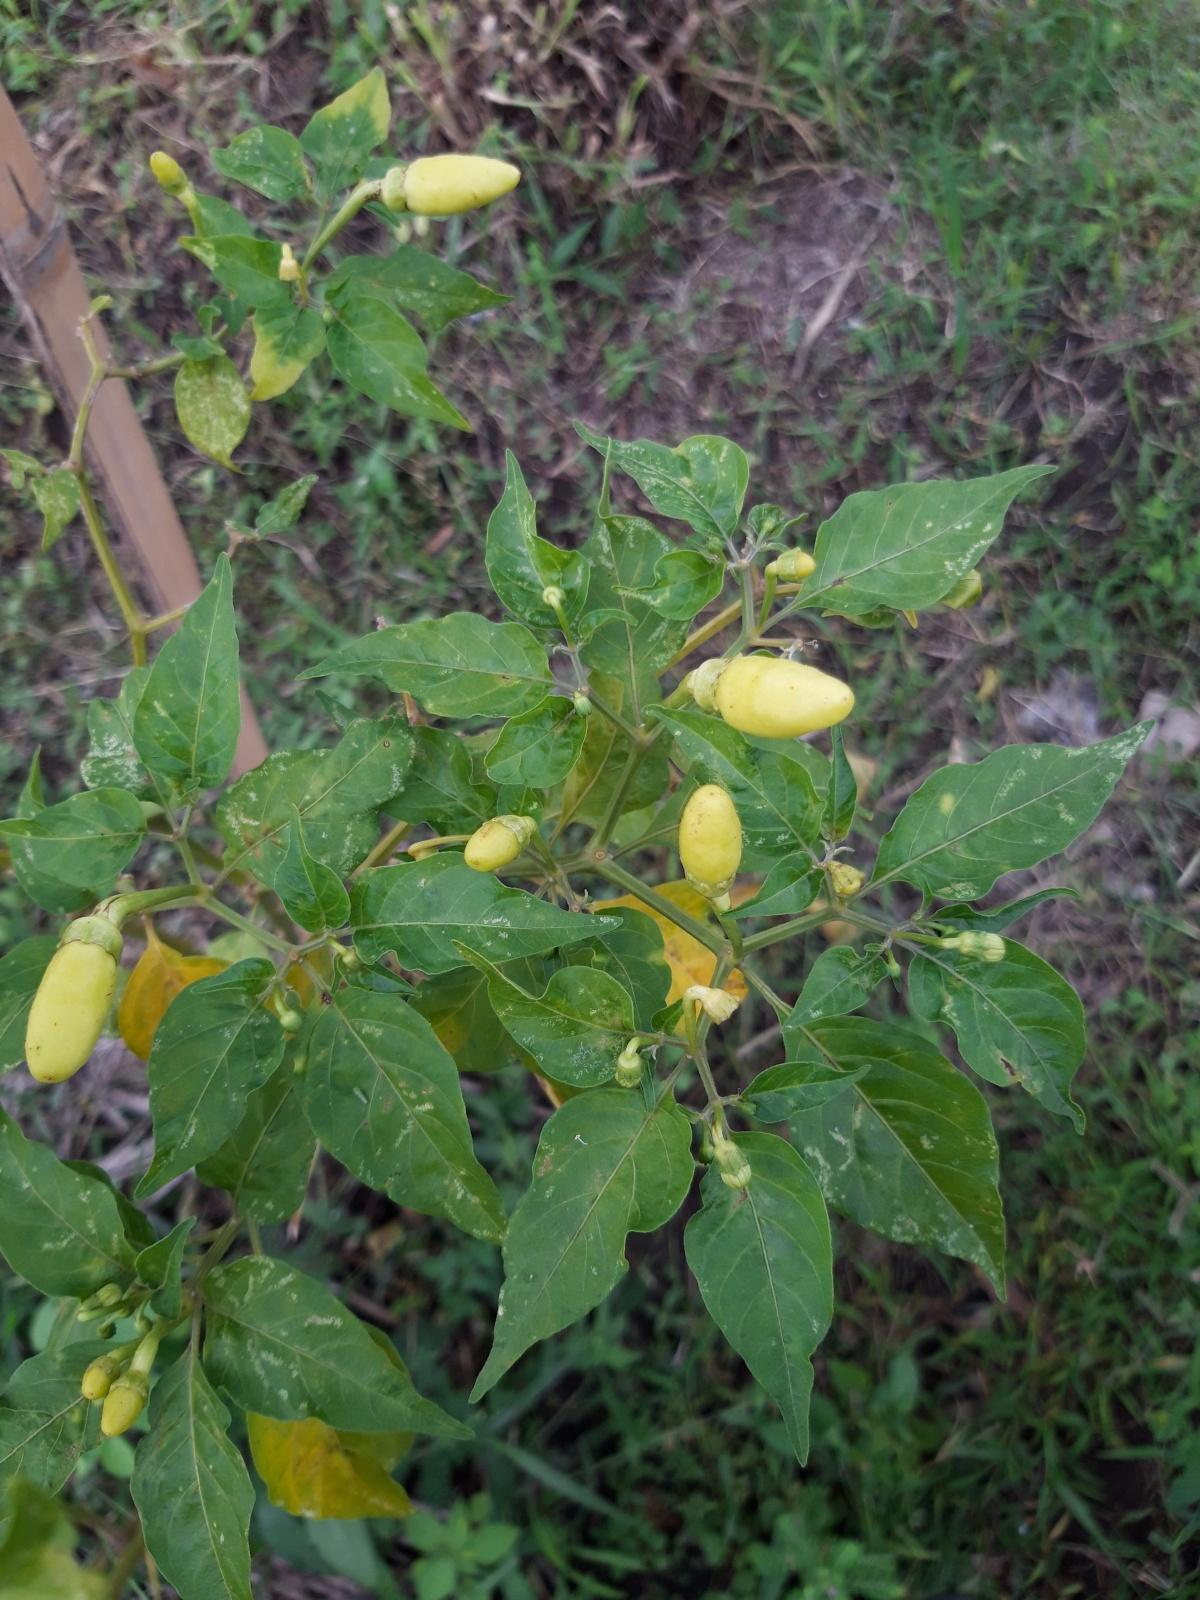cabai_normal: (24, 939, 118, 1082), (715, 654, 853, 740), (398, 155, 518, 214), (679, 784, 742, 889), (463, 820, 523, 873), (100, 1383, 144, 1436), (83, 1366, 110, 1398)
